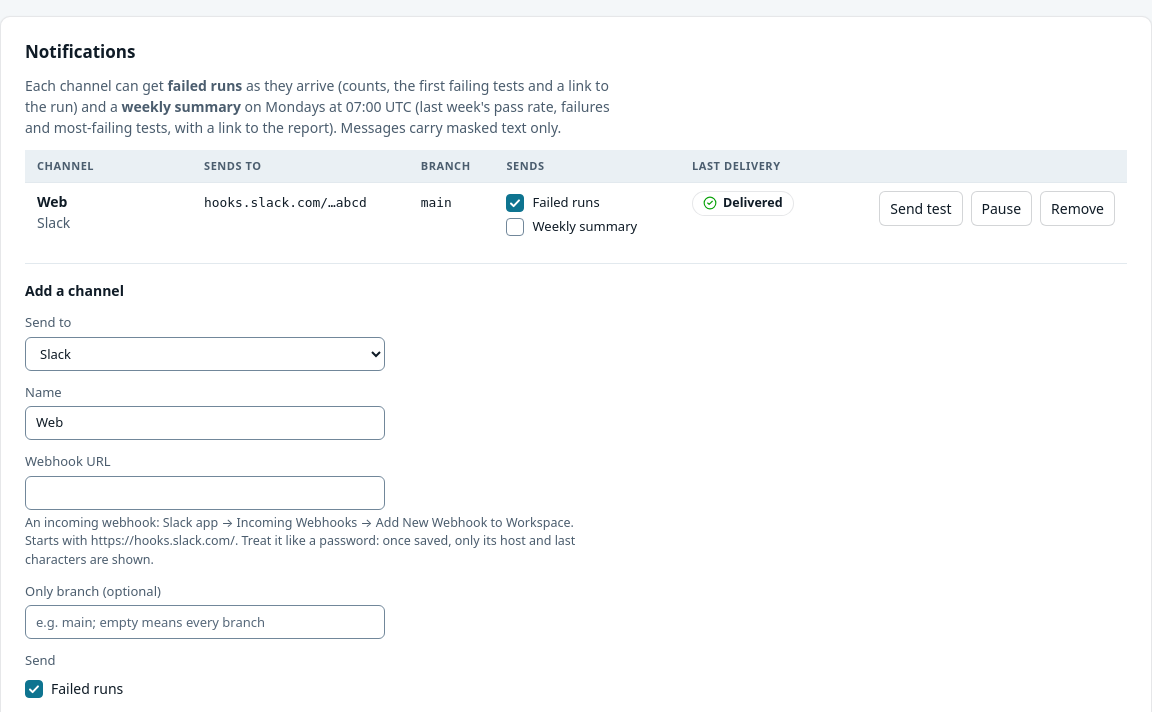
Test case: removing asks first
This screenshot has width=1152, height=712.
What coordinates should you click on to do the following:
click the button with aria-label "remove web"
I would click on:
 (1078, 209)
Its box is [1040, 191, 1115, 226].
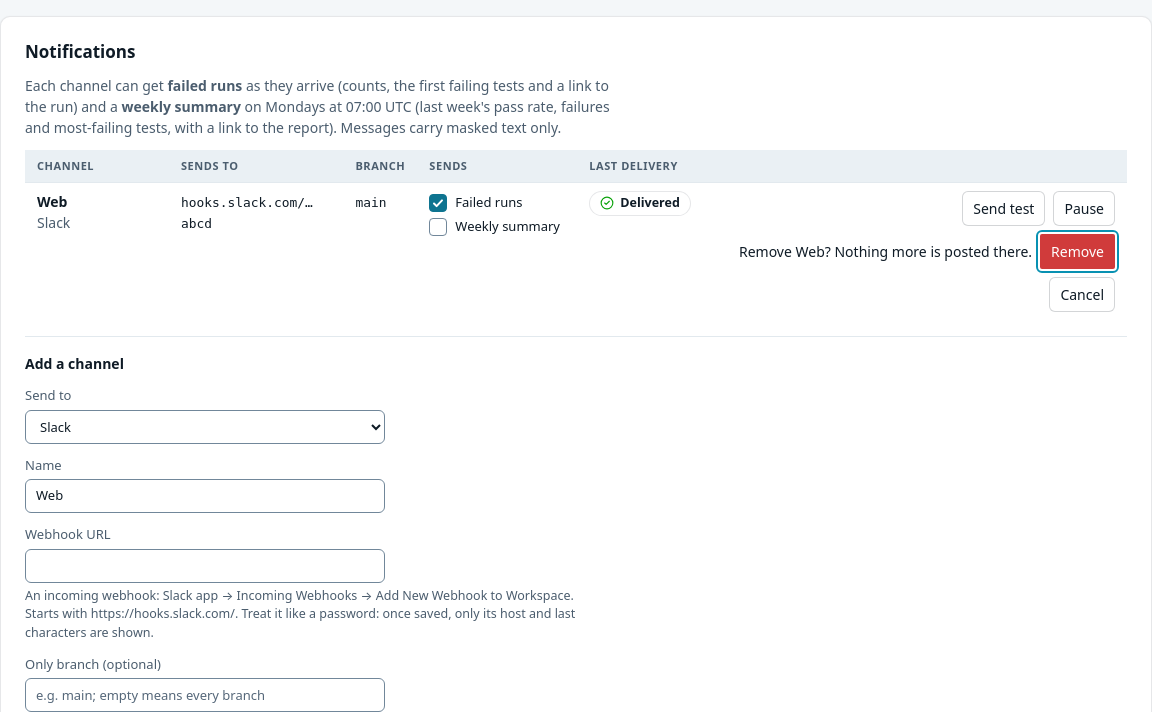
What coordinates should you click on to do the following:
click the button "Remove"
I would click on:
 (1078, 252)
Its box is [1040, 234, 1115, 269].
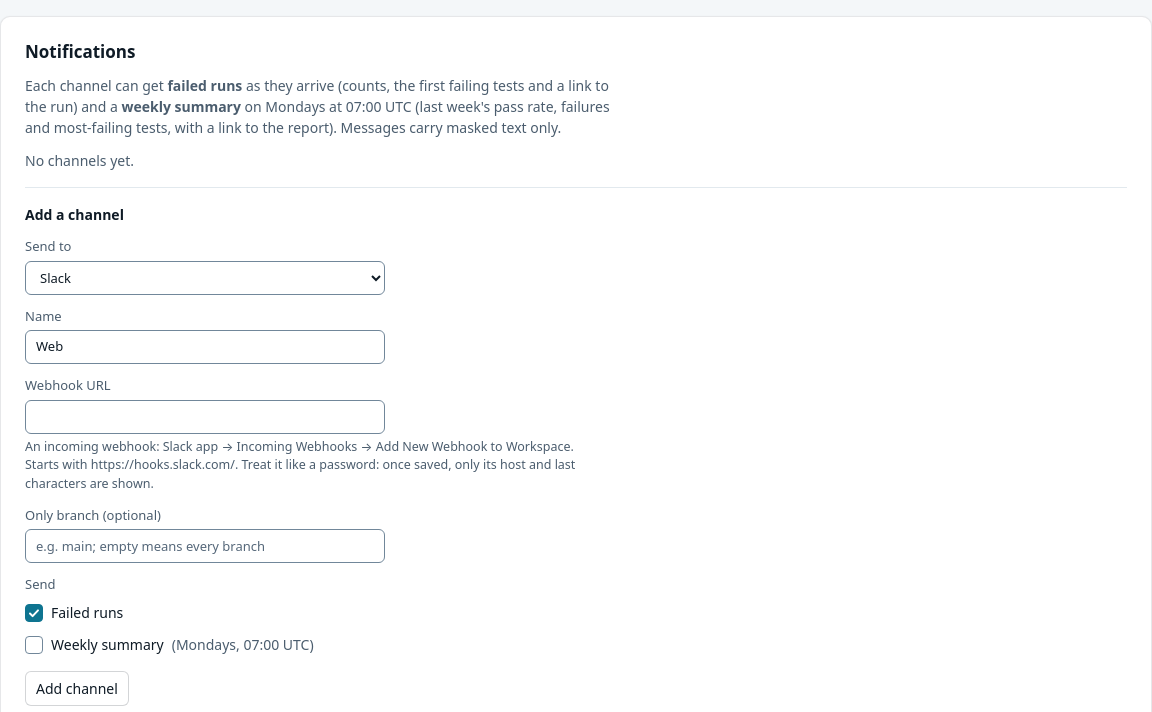
Check: the text "No channels yet." is shown, box [25, 151, 134, 170]
